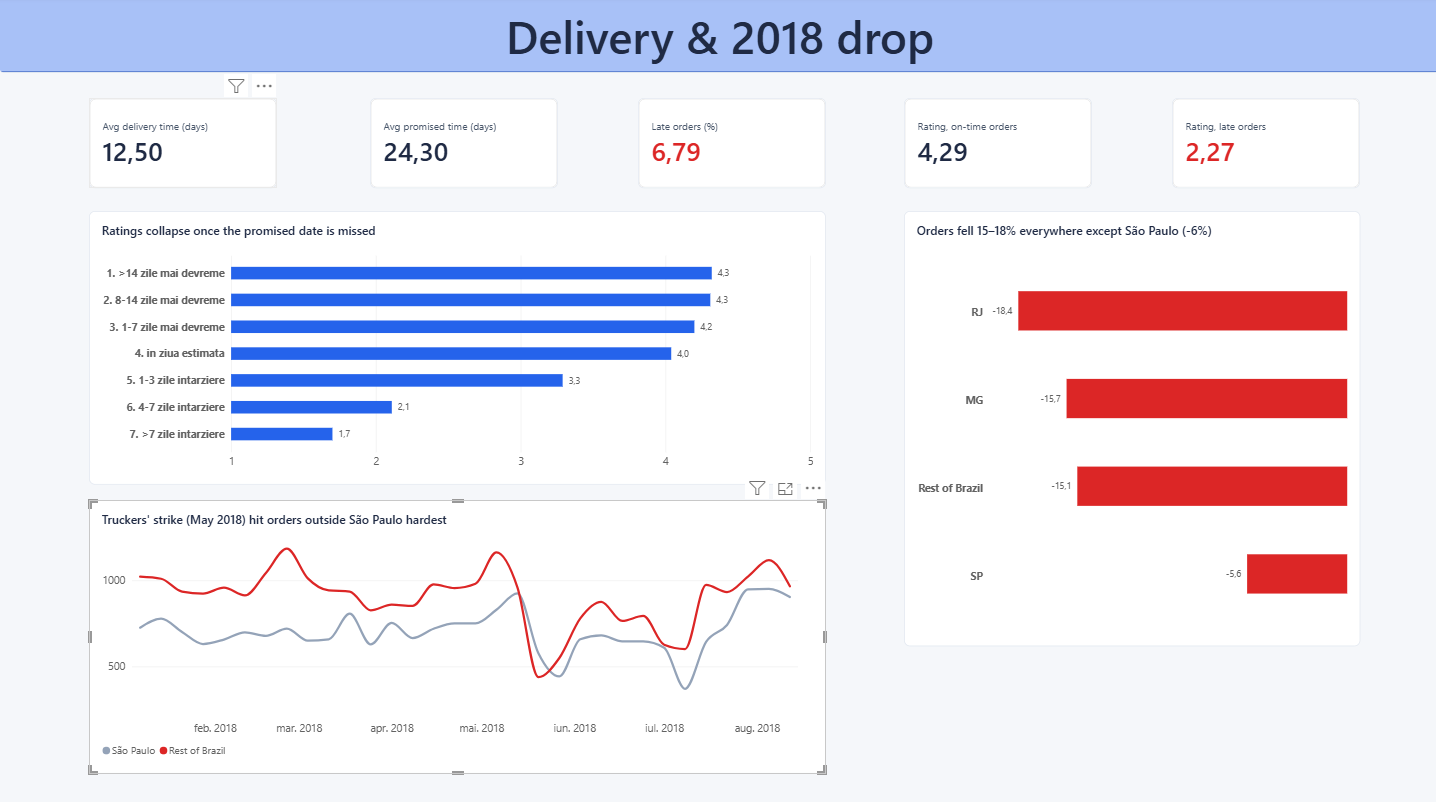

What the dashboard file says about the page in this screenshot:
{"tool":"powerbi","page":{"name":"Delivery & the 2018 drop","canvas":[1920,1080],"ordinal":2},"visuals":[{"type":"shape","title":"GROWTH","box":[0,0,1920.6,101.1],"z":0},{"type":"cardVisual","title":"GMV","fields":{"Data":["Avg(vw_delivery_kpi.zile_livrare_medie)"]},"box":[121,134.3,250,120],"z":1},{"type":"cardVisual","title":"GMV","fields":{"Data":["Avg(vw_delivery_kpi.nota_intarziate)"]},"box":[1561.5,134.3,250,120],"z":2},{"type":"cardVisual","title":"GMV","fields":{"Data":["Sum(vw_delivery_kpi.nota_la_timp)"]},"box":[1205,134.3,250,120],"z":3},{"type":"cardVisual","title":"GMV","fields":{"Data":["Avg(vw_delivery_kpi.zile_estimate_medie)"]},"box":[494.8,134.3,250,120],"z":4},{"type":"cardVisual","title":"GMV","fields":{"Data":["Sum(vw_delivery_kpi.pct_intarziate)"]},"box":[851.2,134.3,250,120],"z":5},{"type":"clusteredBarChart","title":"Ratings collapse once the promised date is missed","fields":{"Category":["vw_delivery_buckets.bucket"],"Y":["Sum(vw_delivery_buckets.nota_medie)"]},"box":[121,284.6,980.2,364.4],"z":6},{"type":"lineChart","title":"Truckers'' strike (May 2018) hit orders outside São Paulo hardest","fields":{"Category":["vw_weekly_region.saptamana"],"Y":["Sum(vw_weekly_region.comenzi_SP)","Sum(vw_weekly_region.comenzi_in_afara_SP)"]},"box":[121,669,980.2,364.4],"z":7},{"type":"clusteredBarChart","title":"Orders fell 15–18% everywhere except São Paulo (-6%)","fields":{"Category":["vw_region_drop.regiune"],"Y":["Sum(vw_region_drop.schimbare_pct)"]},"box":[1205,284.6,606.5,578.6],"z":8}]}

Visuals, with their boxes in screenshot pixels (x1, y1, x2, y2), scaled from the page's 1920x1080 canvas onto the 1436x802 screenshot:
"GROWTH" shape: left=0, top=0, right=1435, bottom=75
"GMV" cardVisual: left=90, top=100, right=277, bottom=189
"GMV" cardVisual: left=1168, top=100, right=1355, bottom=189
"GMV" cardVisual: left=901, top=100, right=1088, bottom=189
"GMV" cardVisual: left=370, top=100, right=557, bottom=189
"GMV" cardVisual: left=637, top=100, right=824, bottom=189
"Ratings collapse once the promised date is missed" clusteredBarChart: left=90, top=211, right=824, bottom=482
"Truckers'' strike (May 2018) hit orders outside São Paulo hardest" lineChart: left=90, top=497, right=824, bottom=767
"Orders fell 15–18% everywhere except São Paulo (-6%)" clusteredBarChart: left=901, top=211, right=1355, bottom=641
